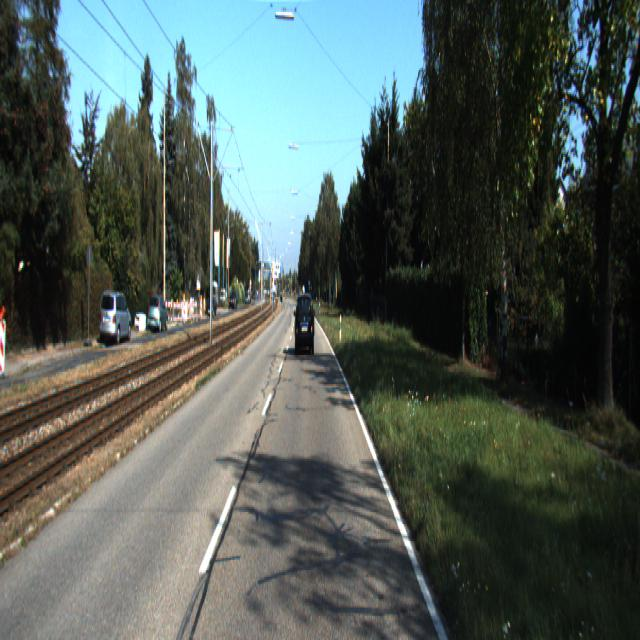Car: (99, 290, 133, 347), (296, 294, 314, 356), (147, 293, 169, 333)
